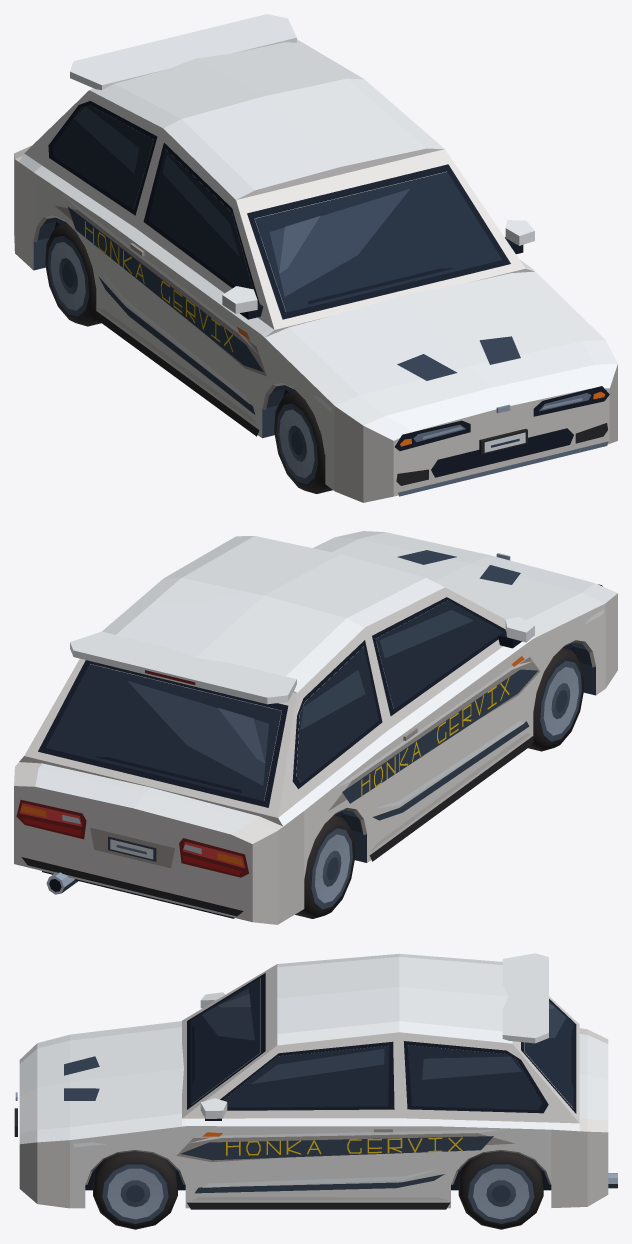
Rendered from sedan-white.glb.
3 views of the same model, one above another, from view 1: azimuth 30°, elevation 25°; view 2: azimuth 150°, elevation 25°; view 3: azimuth 270°, elevation 25° (orthographic). The views are drawn at different scales.
Visible parts, largest first — view 1: Honka Cervix - White Hatchback; view 2: Honka Cervix - White Hatchback; view 3: Honka Cervix - White Hatchback.
Part boxes in pixels (x1,y1,x2,y2): Honka Cervix - White Hatchback: [14, 14, 617, 502]; Honka Cervix - White Hatchback: [14, 531, 617, 924]; Honka Cervix - White Hatchback: [14, 953, 617, 1229].
Bounding box in the file's own units: 1.89 × 1.44 × 4.06.
Materials: 1 (1 with a texture image).
